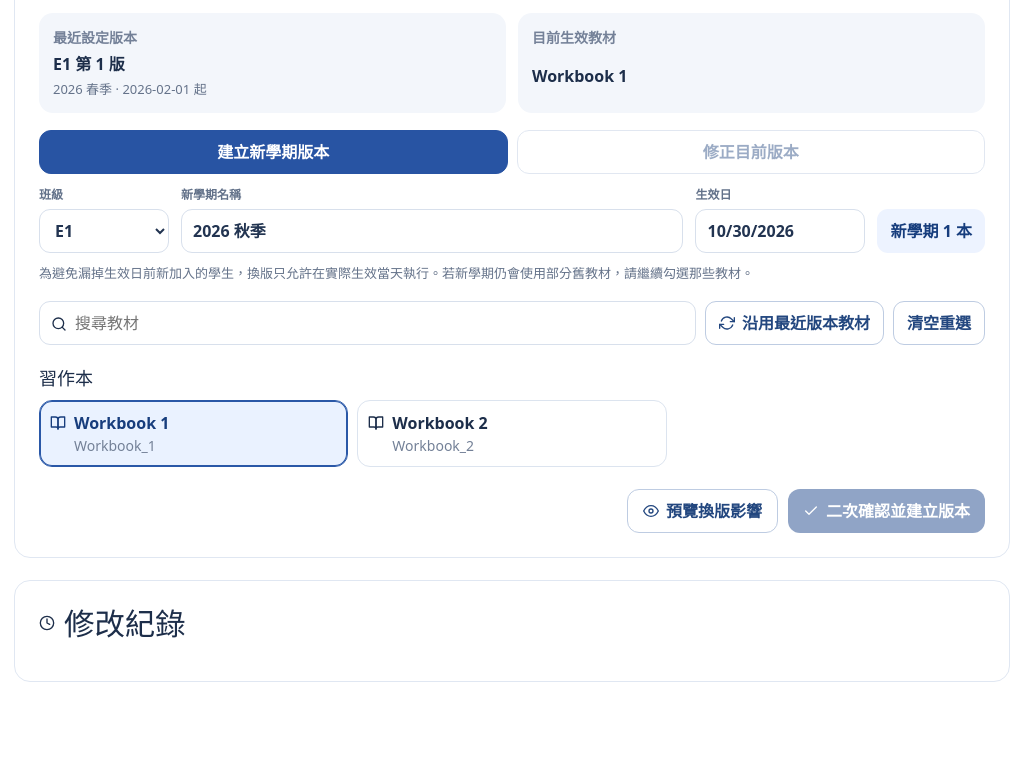
AdminClassMaterials term rollover wizard › shows current books per class and switches locally while invalidating the preview
This screenshot has width=1024, height=759.
(page scrolled)
Step 1. Click the button "預覽換版影響" → (702, 510), box [627,488,778,532]
(page scrolled)
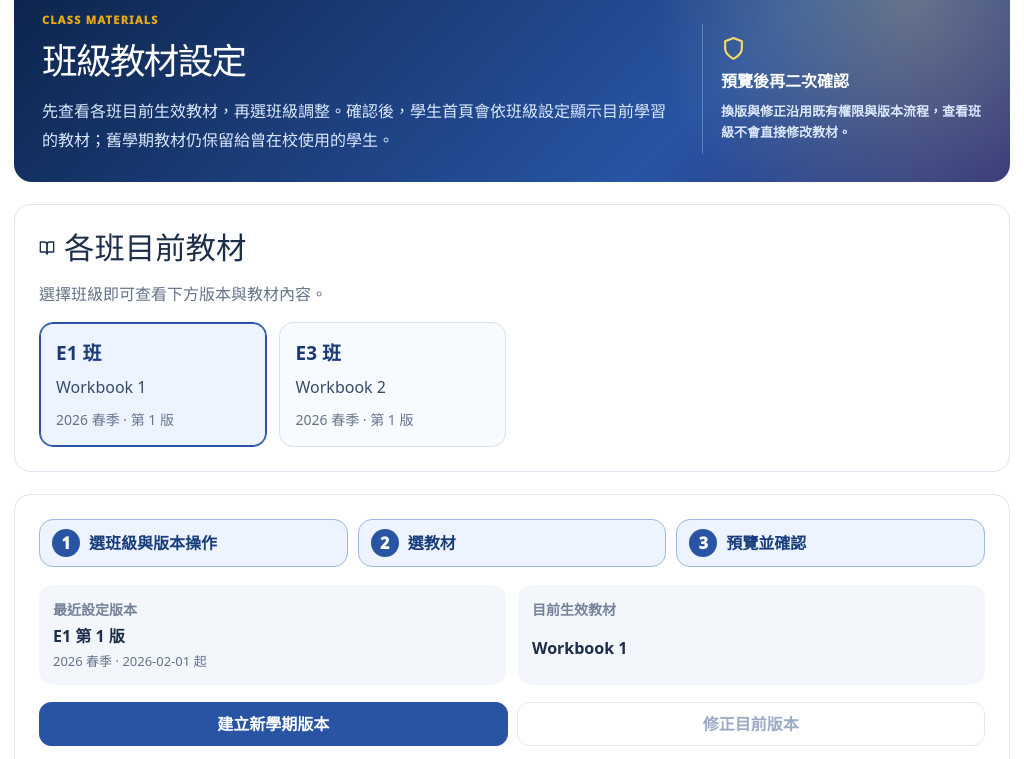
Step 2. Click the button with aria-label "查看 E3 班目前教材" → (392, 384), box [278,322,506,447]
(page scrolled)
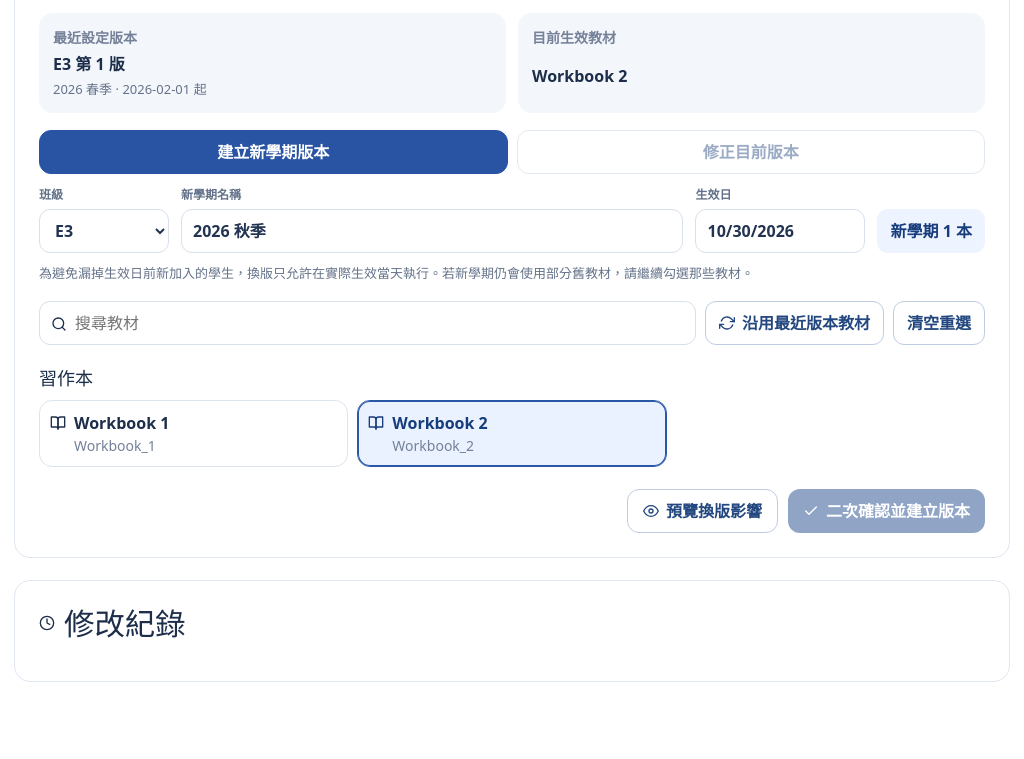
Check: the dropdown labelled "班級" shows "E3", box [39,210,169,254]
Check: the button "二次確認並建立版本" is disabled, box [788,488,985,532]
